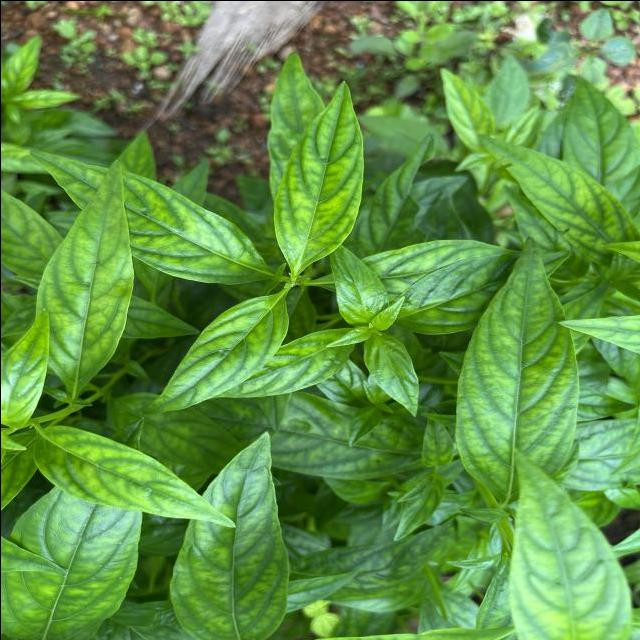Andrographis paniculata: (451, 234, 581, 506), (26, 144, 270, 286), (166, 428, 292, 640), (32, 159, 135, 398), (475, 130, 640, 266), (31, 424, 237, 530), (272, 76, 367, 274), (138, 293, 292, 415), (211, 328, 355, 400), (362, 330, 419, 418)
